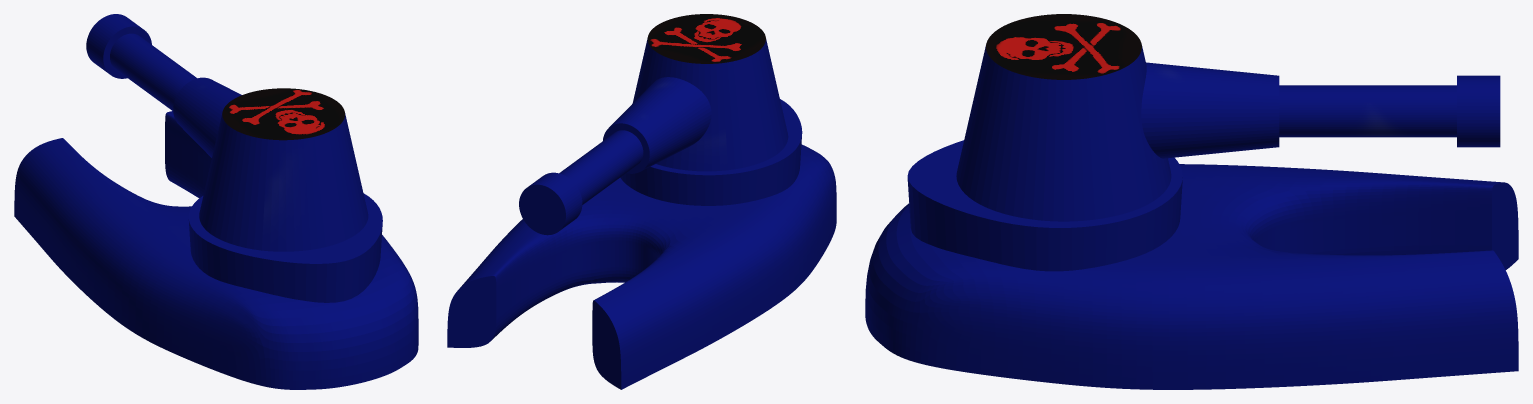
Rendered from PlayerShip.fbx.
3 views of the same model, side by side, from view 1: azimuth 30°, elevation 25°; view 2: azimuth 150°, elevation 25°; view 3: azimuth 270°, elevation 25° (orthographic). The views are drawn at different scales.
Parts seen in each view (by area): view 1: Base, Cannon; view 2: Base, Cannon; view 3: Base, Cannon.
Part boxes in pixels (left/top/right/bottom): Base: left=14, top=111, right=418, bottom=389; Cannon: left=86, top=14, right=368, bottom=251; Base: left=447, top=99, right=836, bottom=389; Cannon: left=519, top=14, right=788, bottom=235; Base: left=865, top=140, right=1518, bottom=389; Cannon: left=956, top=14, right=1500, bottom=221.
Bounding box in the file's own units: 658 × 550 × 1215.
